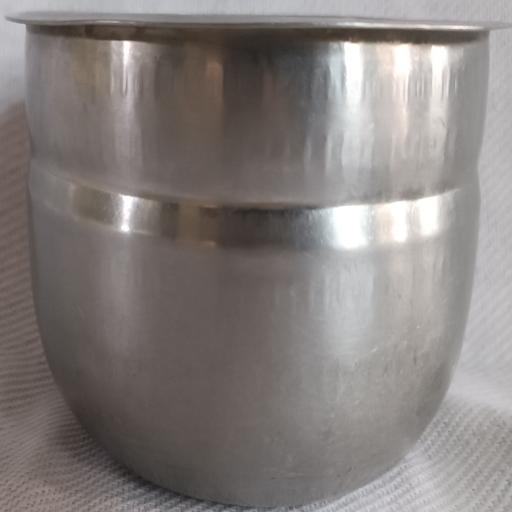vessel: (10, 13, 492, 506)
